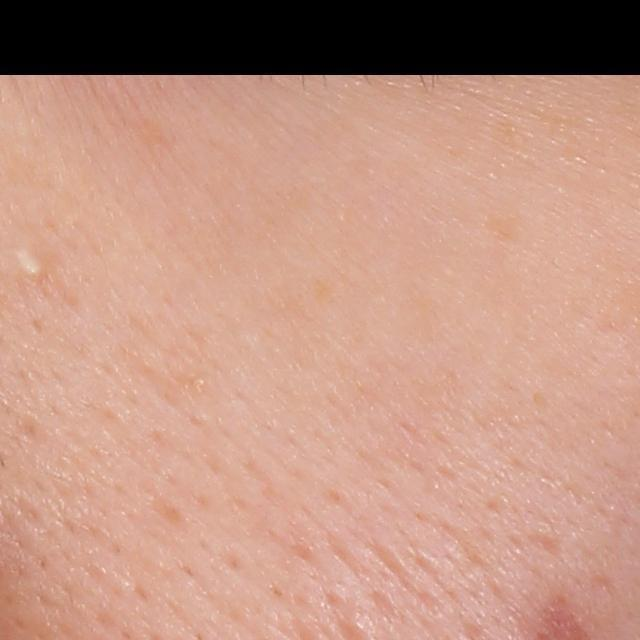atrophic_scar: (520, 526, 564, 558)
comedo: (19, 249, 43, 281)
melasma: (124, 111, 178, 153), (475, 203, 523, 246)
